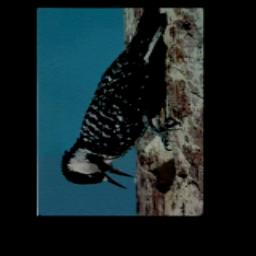Woodpecker: (55, 9, 183, 193)
